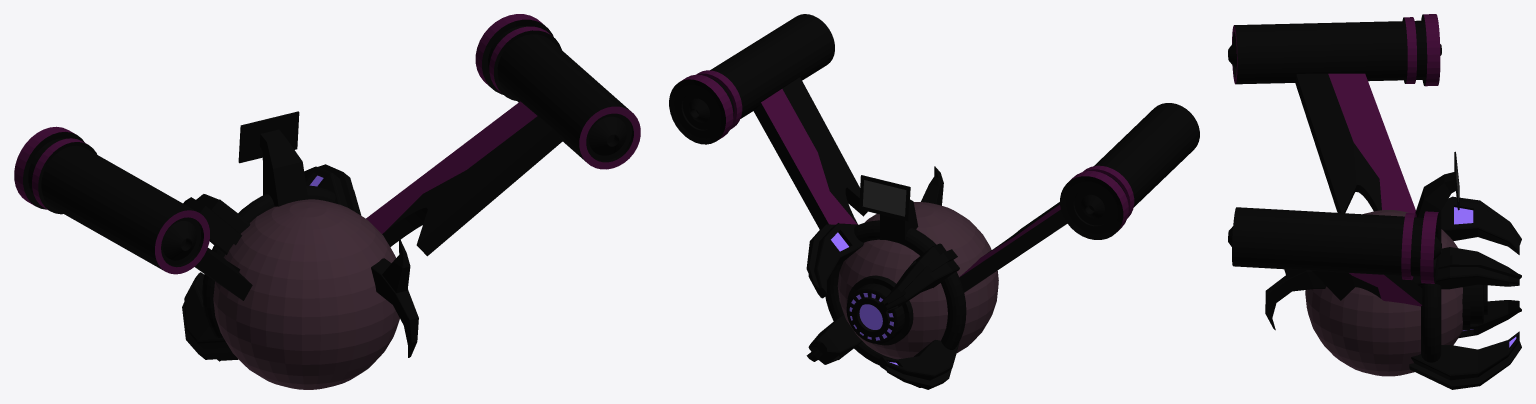
File: drone.fbx
The picture shows the model from 3 angles, left to right: view 1: azimuth 30°, elevation 25°; view 2: azimuth 150°, elevation 25°; view 3: azimuth 270°, elevation 25°; orthographic projection. The views are drawn at different scales.
Visible parts, largest first — view 1: Drone; view 2: Drone; view 3: Drone.
Boxes of the visible parts, left/top/right/bottom form: Drone: left=14, top=14, right=640, bottom=389; Drone: left=669, top=14, right=1199, bottom=389; Drone: left=1228, top=14, right=1521, bottom=389.
Bounding box in the file's own units: 648 × 334 × 353.
